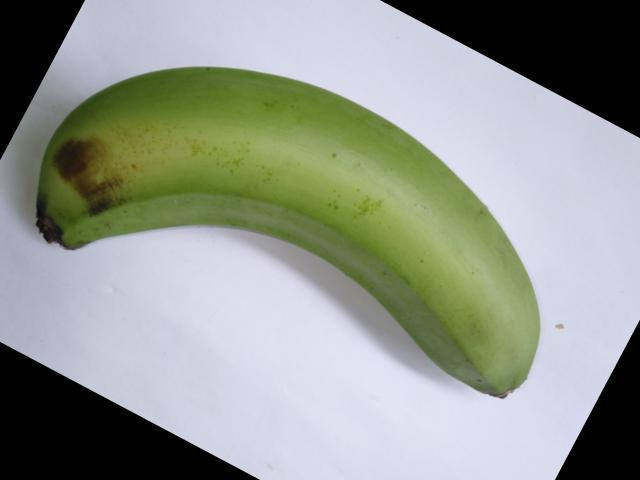freshunripe: (22, 52, 553, 404)
